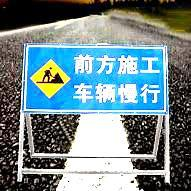sign: (21, 43, 168, 115)
